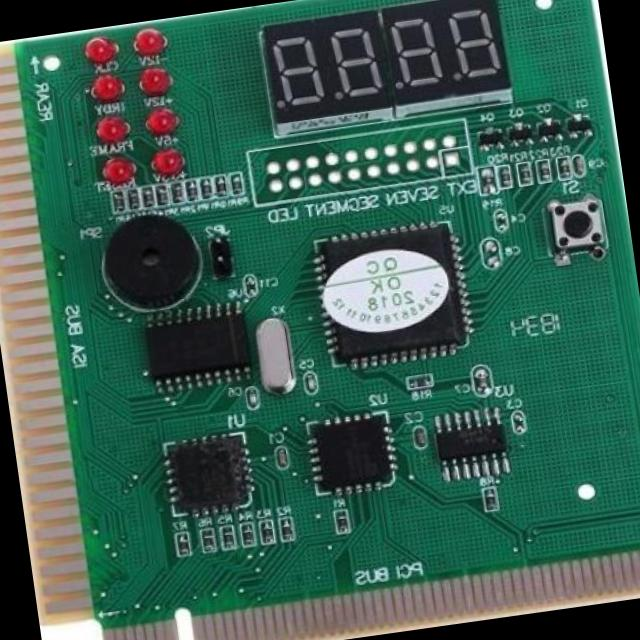IC: (319, 218, 468, 365), (146, 307, 252, 388), (160, 435, 248, 517), (312, 412, 394, 496), (432, 418, 507, 471)
LED: (138, 68, 170, 100), (148, 148, 178, 181), (133, 29, 167, 58), (89, 76, 118, 107), (102, 157, 134, 184), (96, 116, 128, 142), (146, 111, 175, 137), (83, 38, 114, 62)
capacitor: (476, 369, 491, 394), (246, 386, 258, 407), (245, 278, 258, 296), (277, 448, 287, 466), (575, 158, 584, 175), (515, 415, 525, 430), (306, 374, 314, 392), (415, 430, 423, 444)
connector: (213, 236, 232, 272)
resistor: (334, 514, 351, 536), (201, 529, 214, 552), (482, 490, 496, 510), (261, 523, 274, 543), (188, 182, 199, 204), (216, 178, 228, 198), (484, 169, 494, 192), (243, 528, 255, 544), (128, 192, 139, 208), (282, 523, 293, 539), (541, 163, 551, 180), (179, 537, 189, 554), (172, 186, 181, 204), (223, 530, 232, 548), (412, 378, 430, 387), (558, 162, 568, 178), (502, 170, 511, 187), (520, 168, 530, 183), (232, 178, 240, 196), (114, 198, 124, 212), (159, 190, 167, 204), (146, 190, 152, 204), (204, 184, 210, 196)
transistor: (566, 114, 594, 144), (537, 120, 560, 144), (508, 125, 532, 148), (479, 129, 499, 154)
